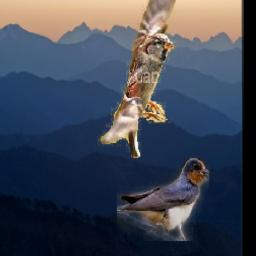Sparrow: (98, 0, 177, 158)
Swallow: (118, 158, 210, 241)
